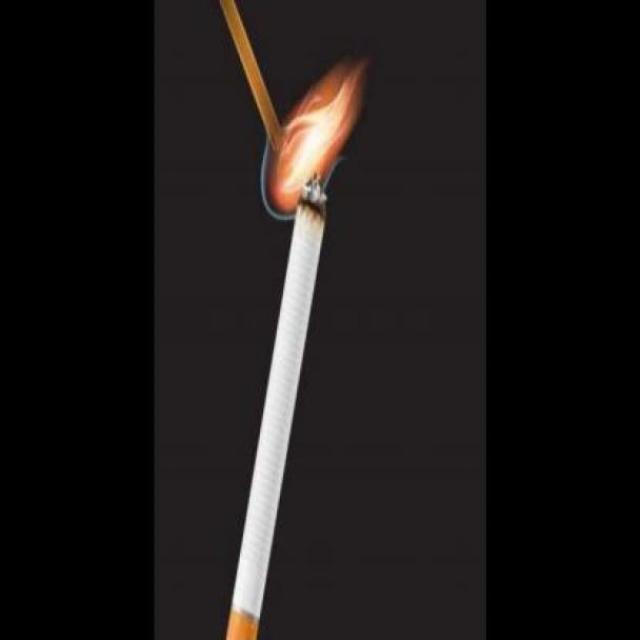rokok: (224, 162, 332, 640)
